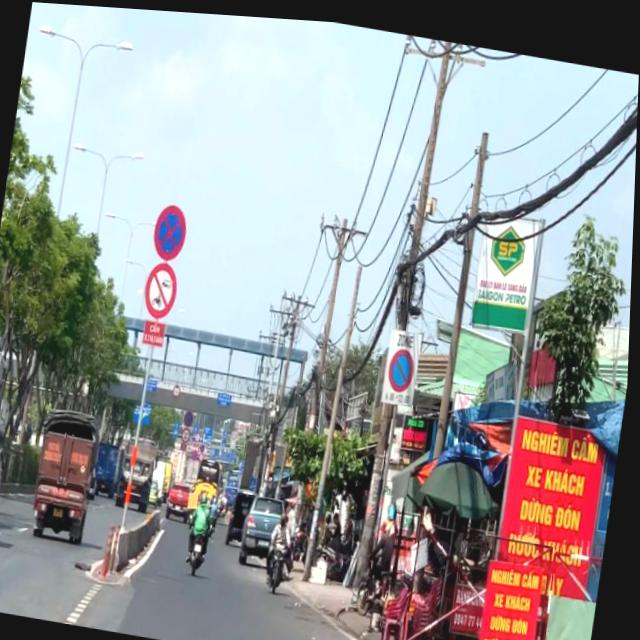Cam do xe: (388, 340, 418, 388)
Cam dung xe va do xe: (152, 199, 191, 260), (186, 408, 197, 423)
Han che chieu cao: (174, 382, 184, 395)
